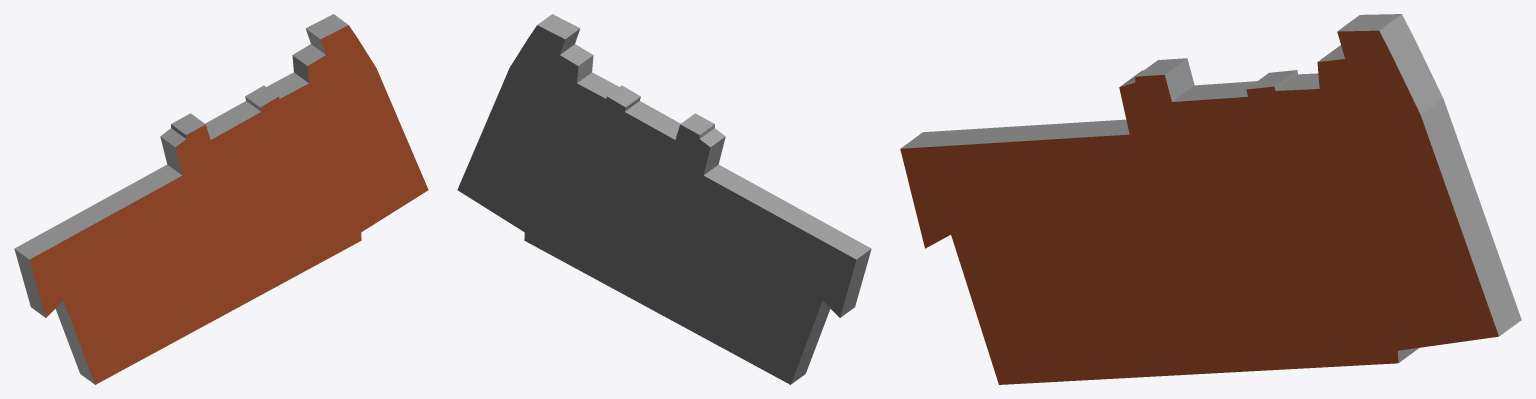
Rendered from construction_6267_assumed_A_Casa_h6m.obj.
3 views of the same model, side by side, from view 1: azimuth 30°, elevation 25°; view 2: azimuth 150°, elevation 25°; view 3: azimuth 330°, elevation 25° (orthographic). The views are drawn at different scales.
Parts seen in each view (by area): view 1: construction_6267_assumed_A_Casa; view 2: construction_6267_assumed_A_Casa; view 3: construction_6267_assumed_A_Casa.
Boxes of the visible parts, x1,y1,x2,y2 form: construction_6267_assumed_A_Casa: [14, 14, 428, 384]; construction_6267_assumed_A_Casa: [457, 14, 871, 384]; construction_6267_assumed_A_Casa: [900, 14, 1521, 384].
Size of the model in its own units: 91.32 by 65.16 by 6.
